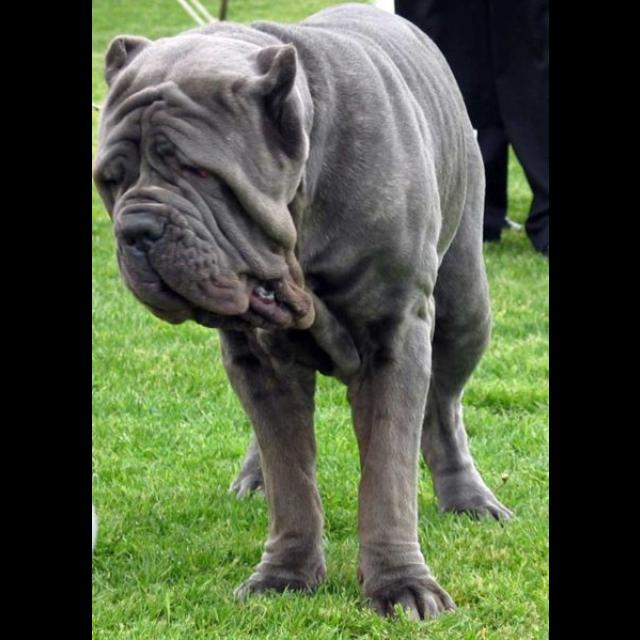mastino_napoletano: (93, 3, 516, 624)
